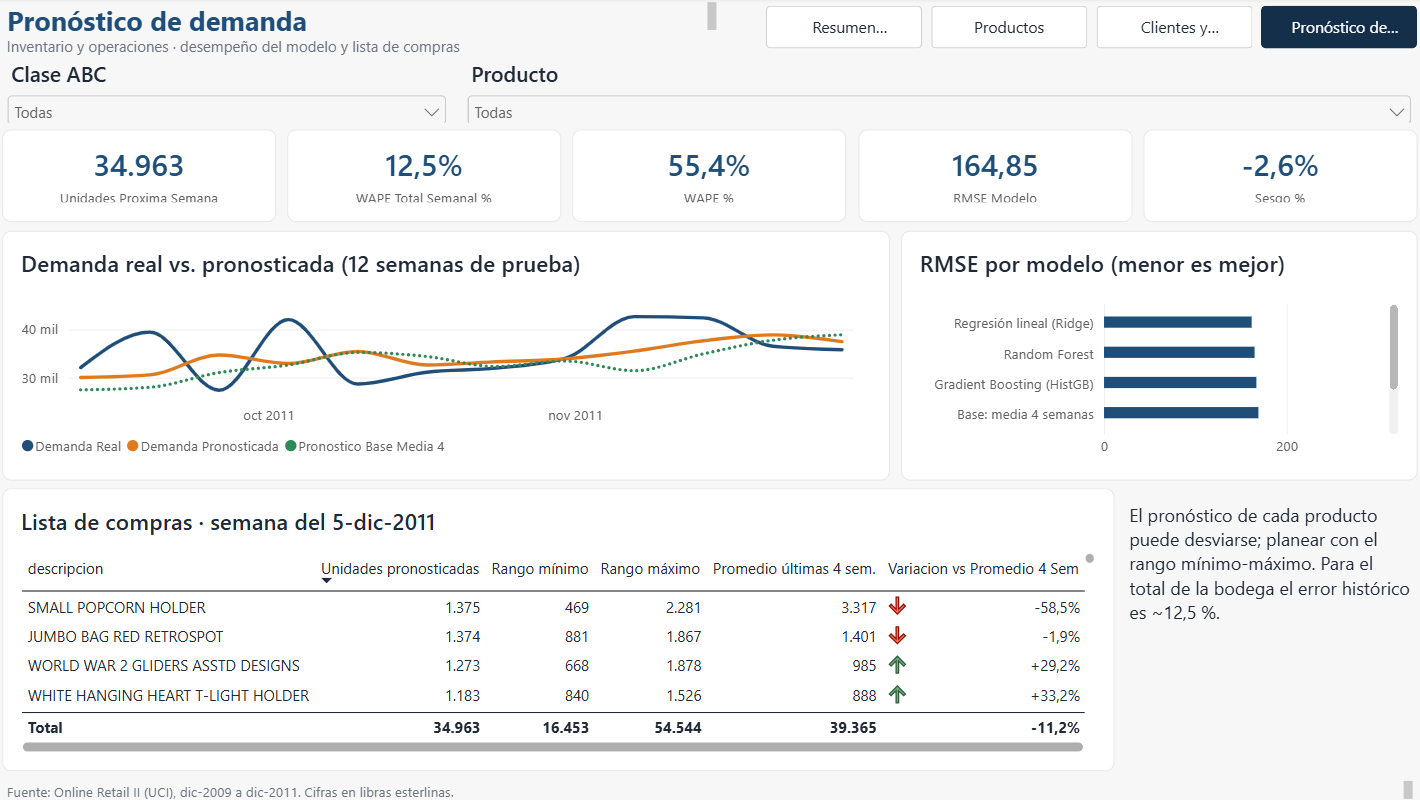

What the dashboard file says about the page in this screenshot:
{"tool":"powerbi","page":{"name":"Pronóstico de demanda","canvas":[1280,720],"ordinal":3},"visuals":[{"type":"textbox","box":[10,2,640,32],"z":48000},{"type":"textbox","box":[10,32,640,22],"z":49000},{"type":"pageNavigator","box":[690,8,580,38],"z":50000},{"type":"textbox","box":[10,696,1260,20],"z":51000},{"type":"slicer","fields":{"Values":["dim_producto.clase_abc"]},"box":[10,56,400,56],"z":52000},{"type":"slicer","fields":{"Values":["dim_producto.descripcion"]},"box":[420,56,850,56],"z":53000},{"type":"card","fields":{"Values":["_Medidas.Unidades Proxima Semana"]},"box":[10,118,244,82],"z":54000},{"type":"card","fields":{"Values":["_Medidas.WAPE Total Semanal %"]},"box":[264,118,244,82],"z":55000},{"type":"card","fields":{"Values":["_Medidas.WAPE %"]},"box":[518,118,244,82],"z":56000},{"type":"card","fields":{"Values":["_Medidas.RMSE Modelo"]},"box":[772,118,244,82],"z":57000},{"type":"card","fields":{"Values":["_Medidas.Sesgo %"]},"box":[1026,118,244,82],"z":58000},{"type":"lineChart","title":"Demanda real vs. pronosticada (12 semanas de prueba)","fields":{"Category":["fact_pronostico.semana_inicio"],"Y":["_Medidas.Demanda Real","_Medidas.Demanda Pronosticada","_Medidas.Pronostico Base Media 4"]},"box":[10,208,790,222],"z":59000},{"type":"clusteredBarChart","title":"RMSE por modelo (menor es mejor)","fields":{"Category":["metricas_modelo.modelo"],"Y":["Sum(metricas_modelo.RMSE)"]},"box":[810,208,460,222],"z":60000},{"type":"tableEx","title":"Lista de compras · semana del 5-dic-2011","fields":{"Values":["pronostico_proxima_semana.descripcion","Sum(pronostico_proxima_semana.unidades_pronosticadas)","Sum(pronostico_proxima_semana.rango_minimo)","Sum(pronostico_proxima_semana.rango_maximo)","Sum(pronostico_proxima_semana.promedio_ultimas_4_semanas)","_Medidas.Variacion vs Promedio 4 Sem"]},"box":[10,438,990,252],"z":61000},{"type":"textbox","box":[1010,448,260,200],"z":62000}]}

Visuals, with their boxes in screenshot pixels (x1, y1, x2, y2), scaled from the page's 1280x720 canvas onto the 1420x800 screenshot:
textbox: <bbox>11, 2, 721, 38</bbox>
textbox: <bbox>11, 36, 721, 60</bbox>
pageNavigator: <bbox>765, 9, 1409, 51</bbox>
textbox: <bbox>11, 773, 1409, 796</bbox>
slicer - dim_producto.clase_abc: <bbox>11, 62, 455, 124</bbox>
slicer - dim_producto.descripcion: <bbox>466, 62, 1409, 124</bbox>
card - _Medidas.Unidades Proxima Semana: <bbox>11, 131, 282, 222</bbox>
card - _Medidas.WAPE Total Semanal %: <bbox>293, 131, 564, 222</bbox>
card - _Medidas.WAPE %: <bbox>575, 131, 845, 222</bbox>
card - _Medidas.RMSE Modelo: <bbox>856, 131, 1127, 222</bbox>
card - _Medidas.Sesgo %: <bbox>1138, 131, 1409, 222</bbox>
"Demanda real vs. pronosticada (12 semanas de prueba)" lineChart: <bbox>11, 231, 888, 478</bbox>
"RMSE por modelo (menor es mejor)" clusteredBarChart: <bbox>899, 231, 1409, 478</bbox>
"Lista de compras · semana del 5-dic-2011" tableEx: <bbox>11, 487, 1109, 767</bbox>
textbox: <bbox>1120, 498, 1409, 720</bbox>
